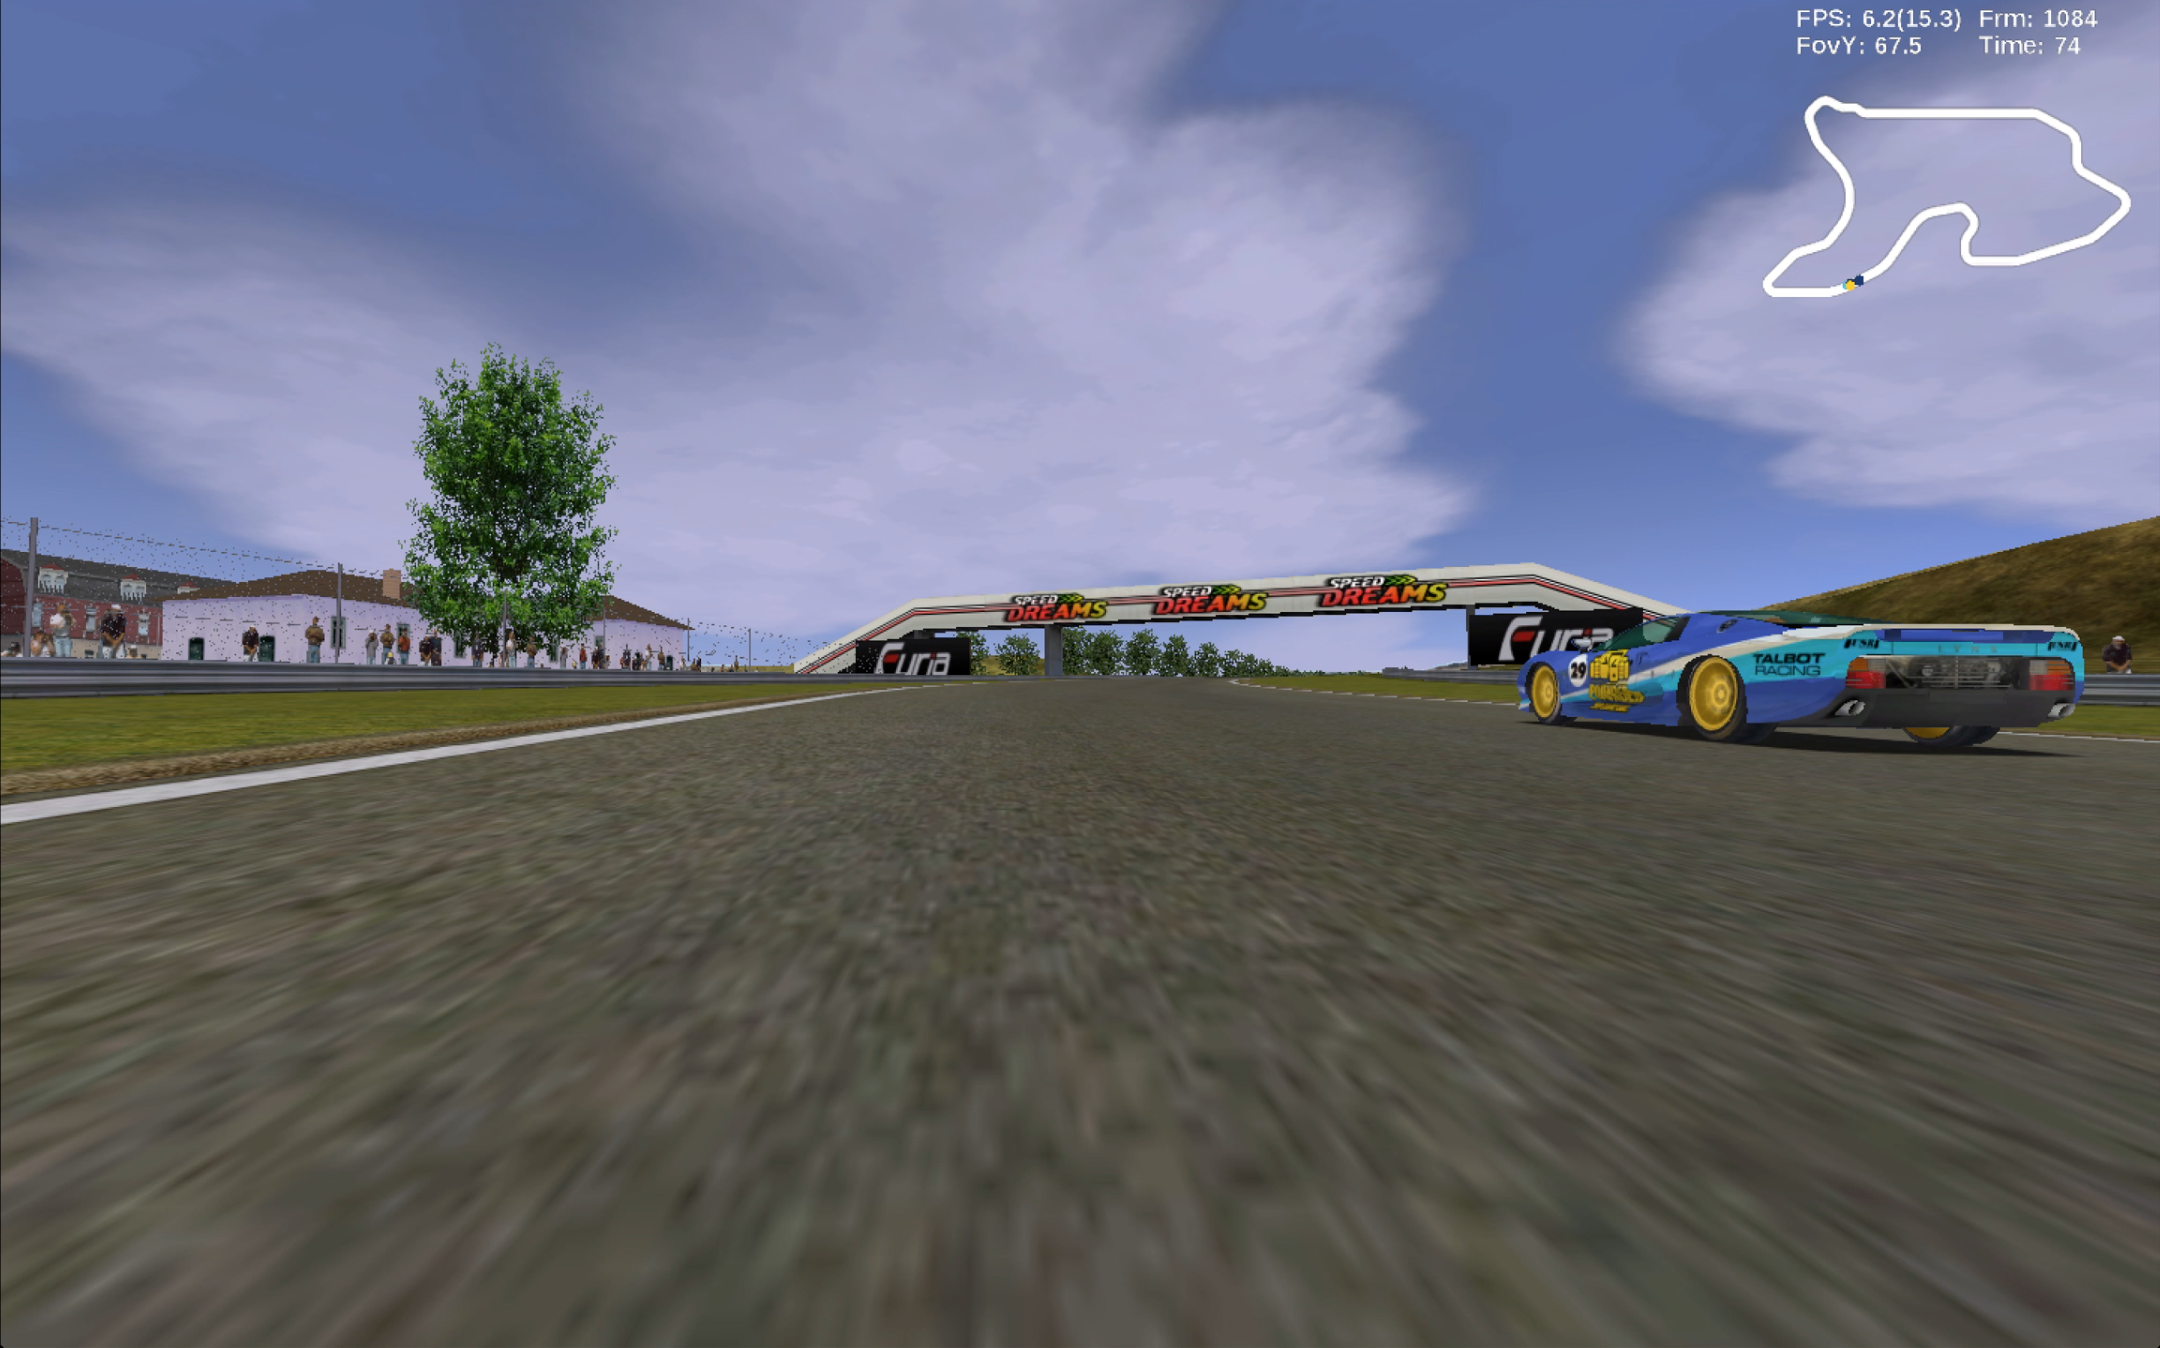Lynx220: (1505, 610, 2082, 742)
